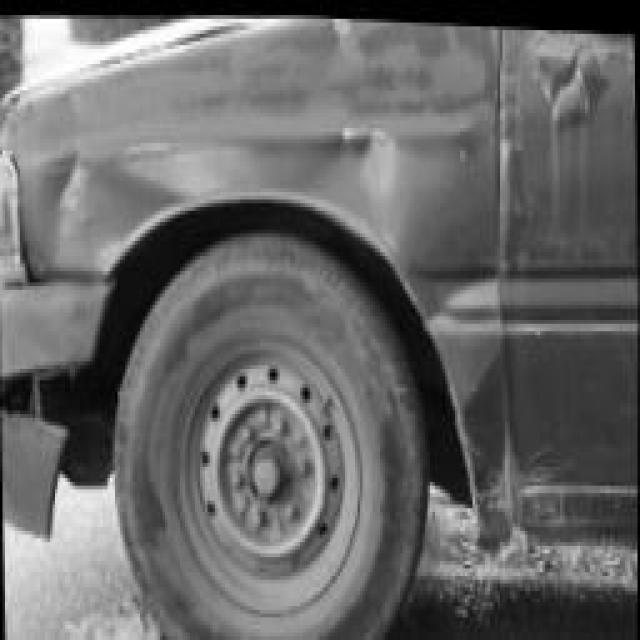Bumper: (0, 267, 109, 551)
Door: (495, 23, 640, 567)
Fender: (48, 79, 507, 551)
